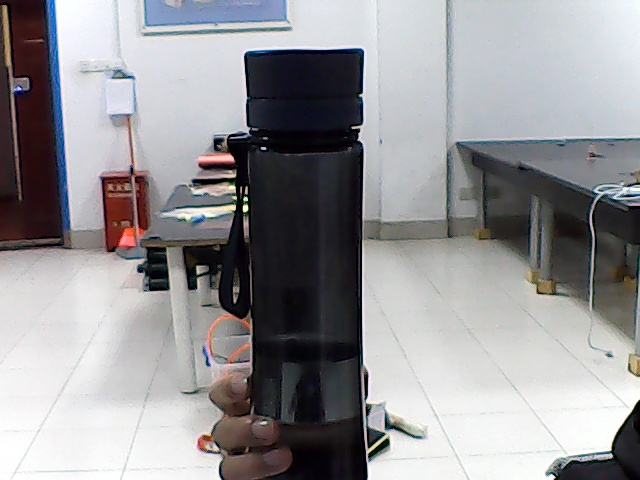cup: (276, 73, 356, 460)
